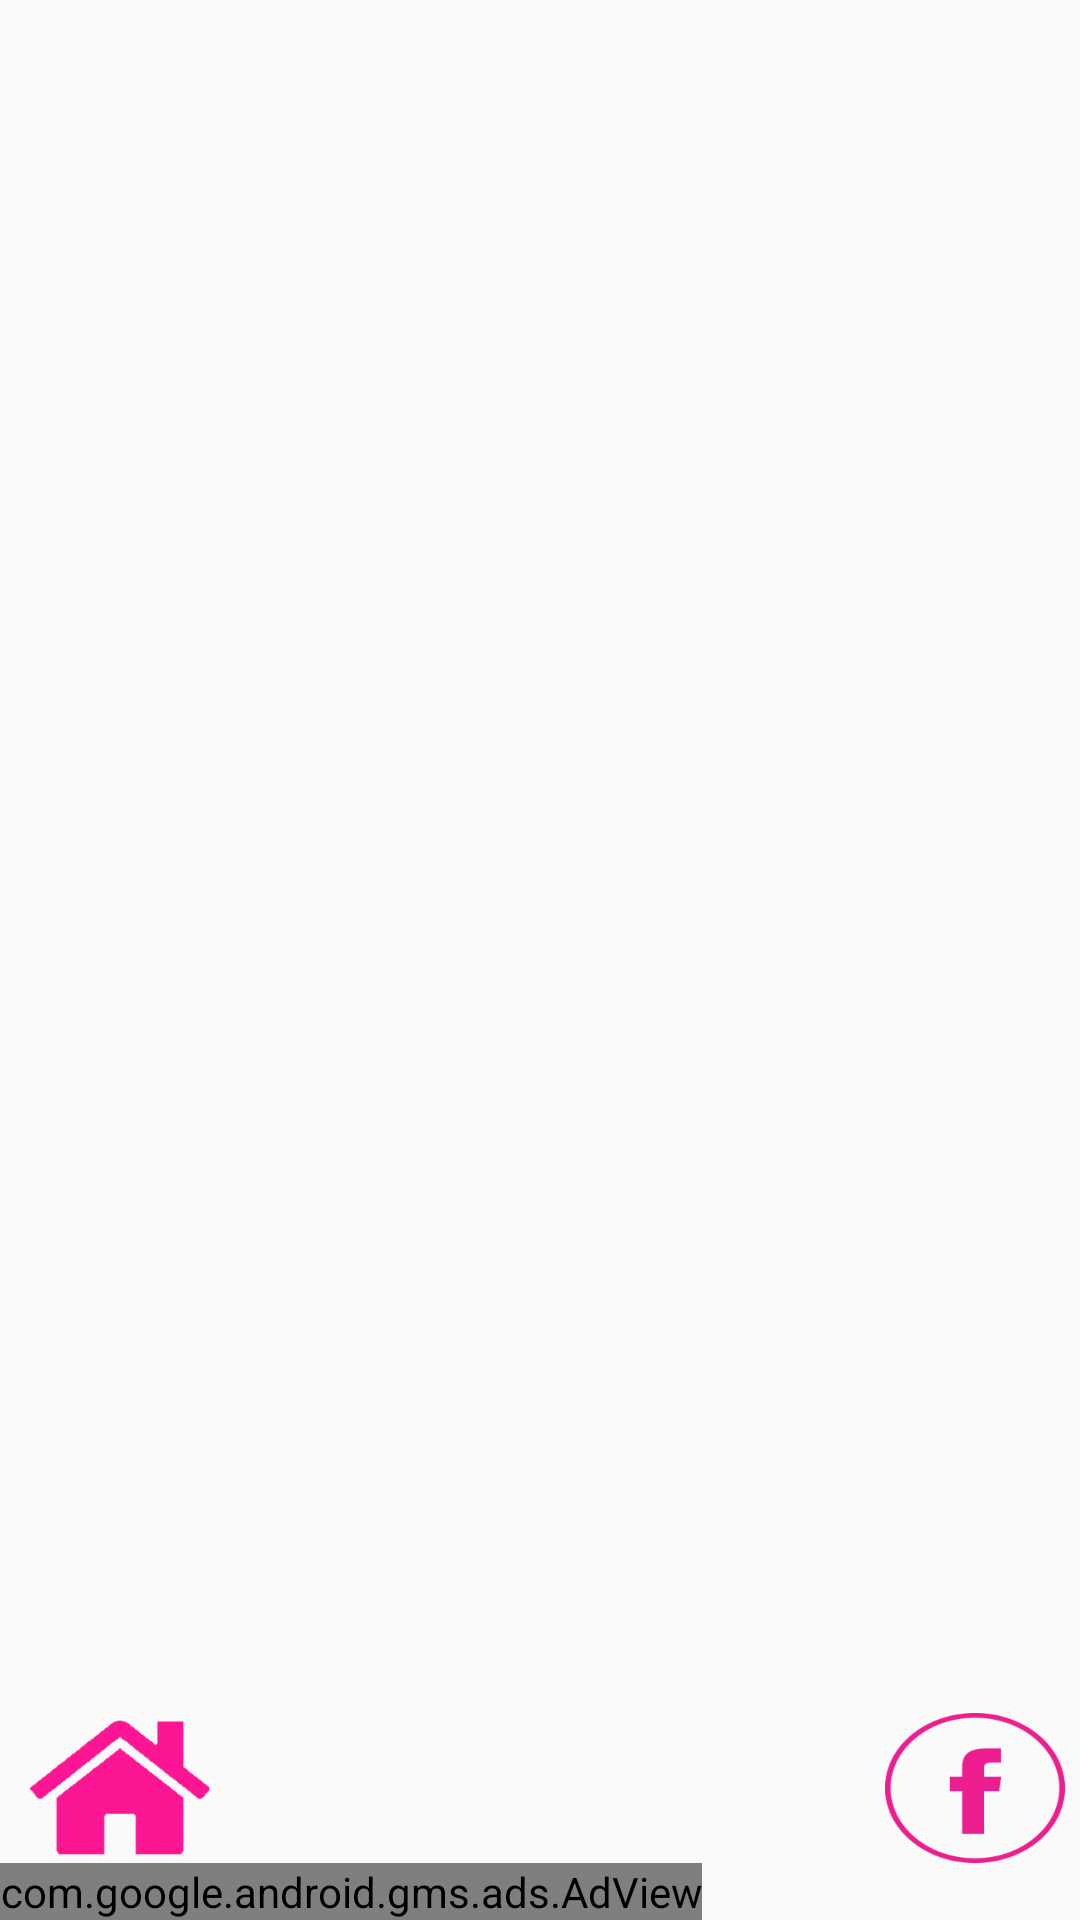

Point at icon controls on the screen. Image size 1080px×1920px, points as (x=x, y=y).
home: (x=120, y=1787)
